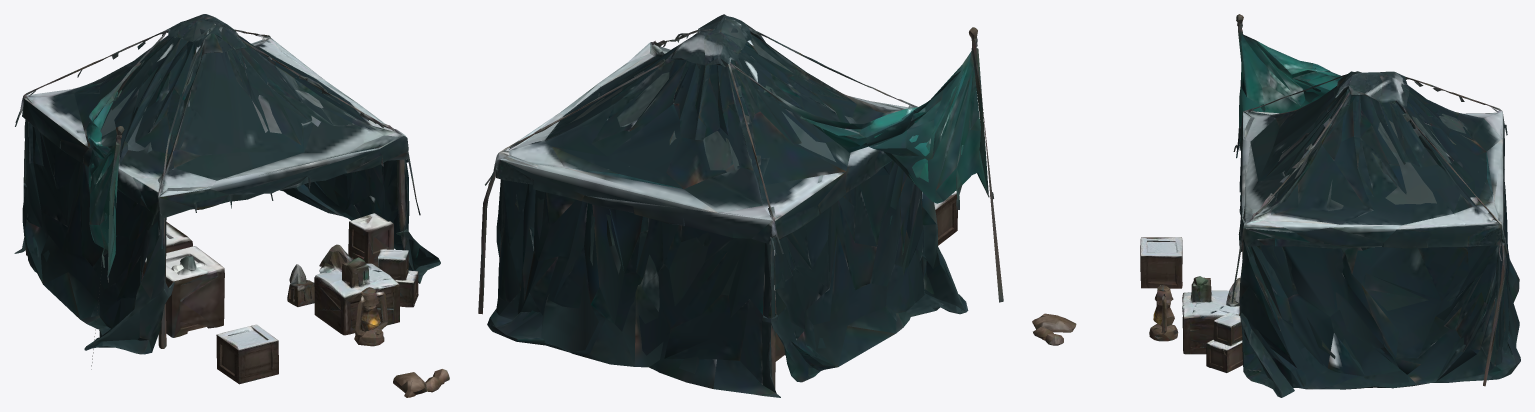
File: mx_sg_tent.glb
3 renders of one model, left to right at view 1: azimuth 30°, elevation 25°; view 2: azimuth 150°, elevation 25°; view 3: azimuth 270°, elevation 25°, orthographic. The views are drawn at different scales.
Bounding box in the file's own units: 1.55 × 1.03 × 1.87.
Materials: 1 (1 with a texture image).
